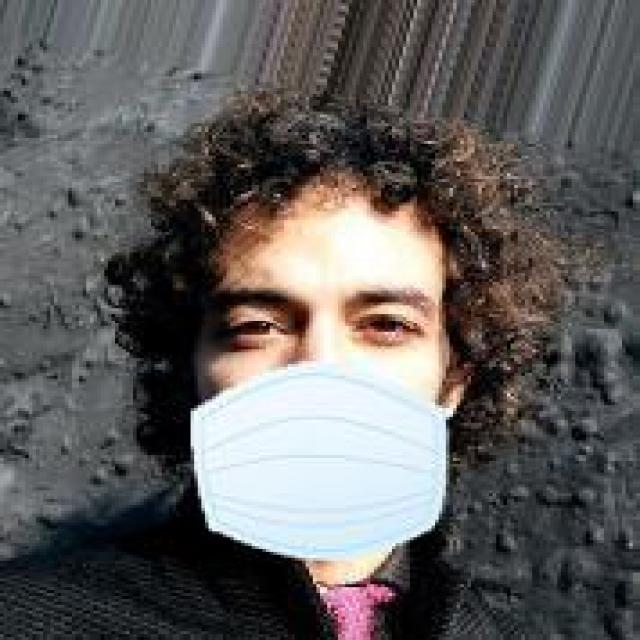mask: (133, 91, 554, 561)
